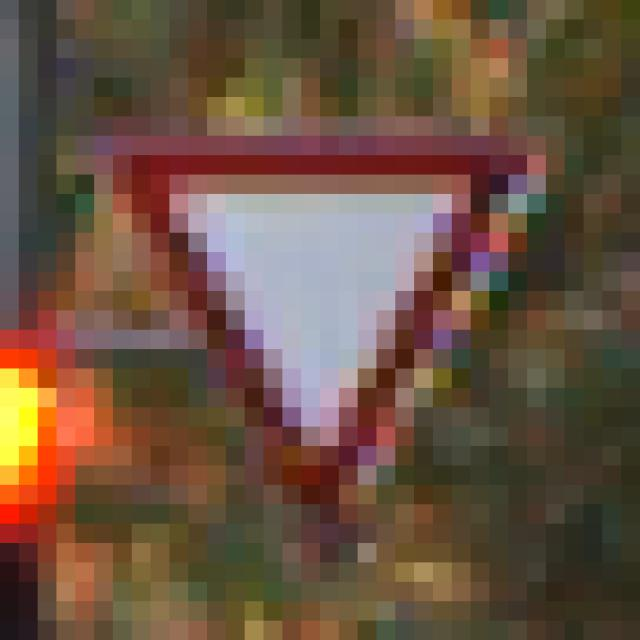Give Way: (95, 98, 547, 544)
